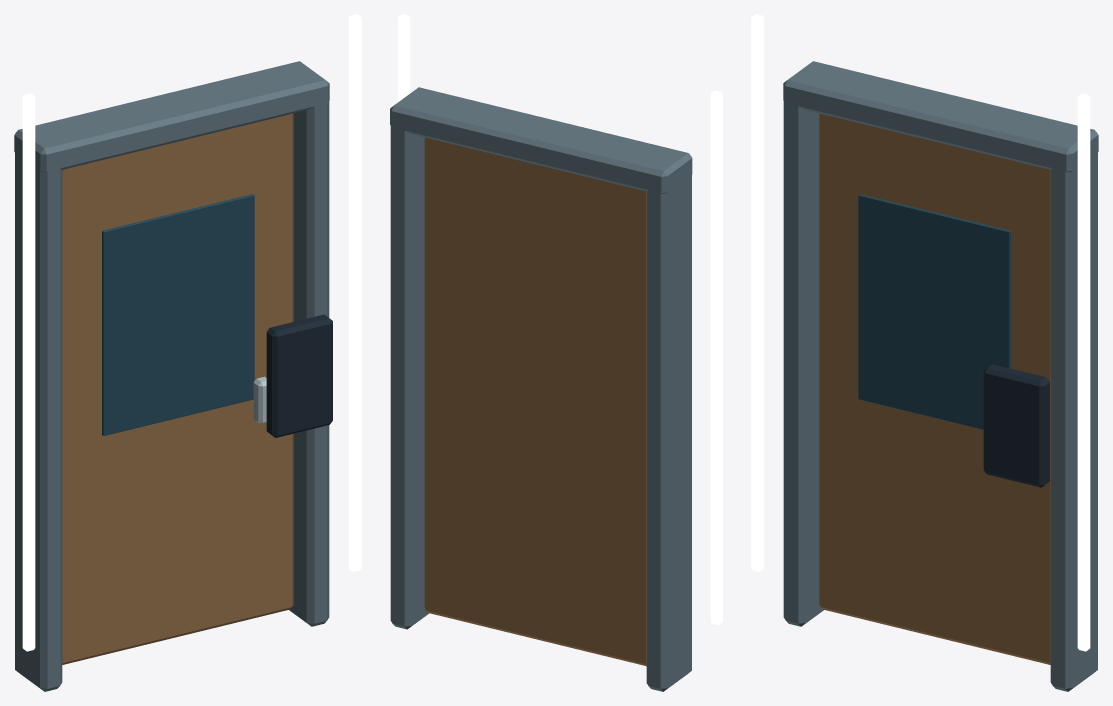
The model's file is objects-door-metal.lod0.glb.
3 views of the same model, side by side, from view 1: azimuth 30°, elevation 25°; view 2: azimuth 150°, elevation 25°; view 3: azimuth 330°, elevation 25° (orthographic). The views are drawn at different scales.
Visible parts, largest first — view 1: objects-door-metal__door, objects-door-metal__body; view 2: objects-door-metal__door, objects-door-metal__body; view 3: objects-door-metal__door, objects-door-metal__body.
Boxes of the visible parts, x1=… form: objects-door-metal__door: x1=62, y1=113, x2=293, y2=664; objects-door-metal__body: x1=14, y1=14, x2=361, y2=691; objects-door-metal__door: x1=424, y1=137, x2=646, y2=666; objects-door-metal__body: x1=390, y1=14, x2=722, y2=691; objects-door-metal__door: x1=819, y1=113, x2=1050, y2=664; objects-door-metal__body: x1=751, y1=14, x2=1098, y2=691.
Bounding box in the file's own units: 1.65 × 2.85 × 0.39.
